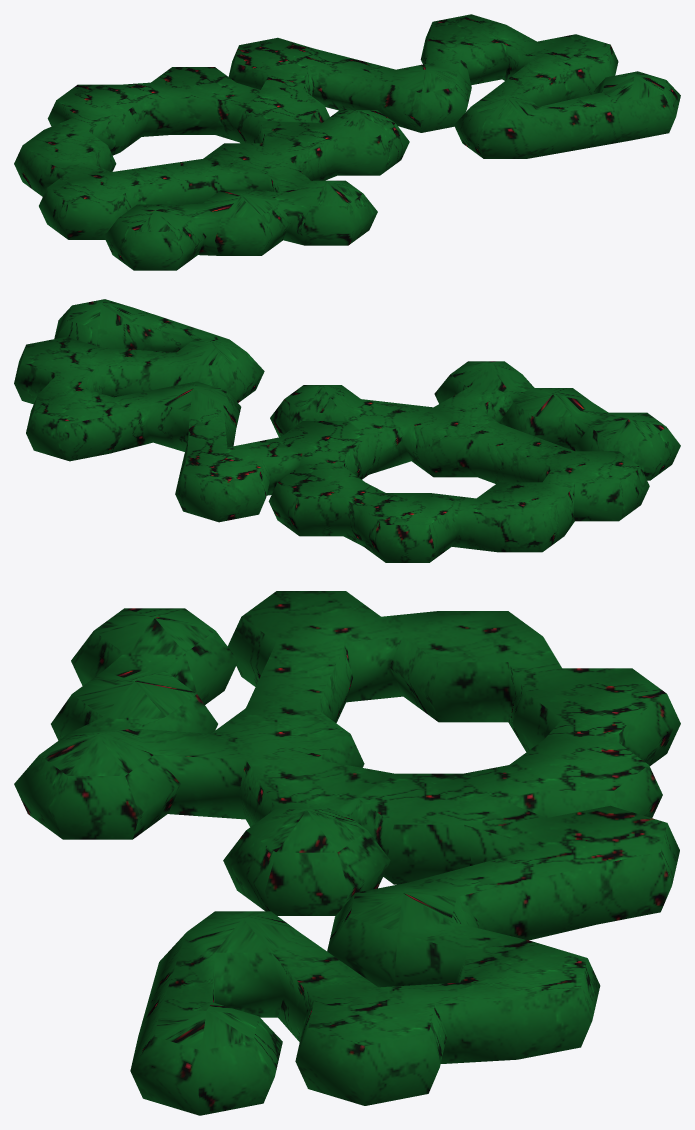
File: treeStandLeaves.fbx
3 renders of one model, top to bottom at view 1: azimuth 30°, elevation 25°; view 2: azimuth 150°, elevation 25°; view 3: azimuth 270°, elevation 25°, orthographic. The views are drawn at different scales.
Parts seen in each view (by area): view 1: Circle.001; view 2: Circle.001; view 3: Circle.001.
Part boxes in pixels (box(x1,y1,x2,y2)): Circle.001: box(14, 14, 680, 270); Circle.001: box(14, 299, 680, 562); Circle.001: box(14, 591, 680, 1115).
Bounding box in the file's own units: 4523 × 357 × 2681.
